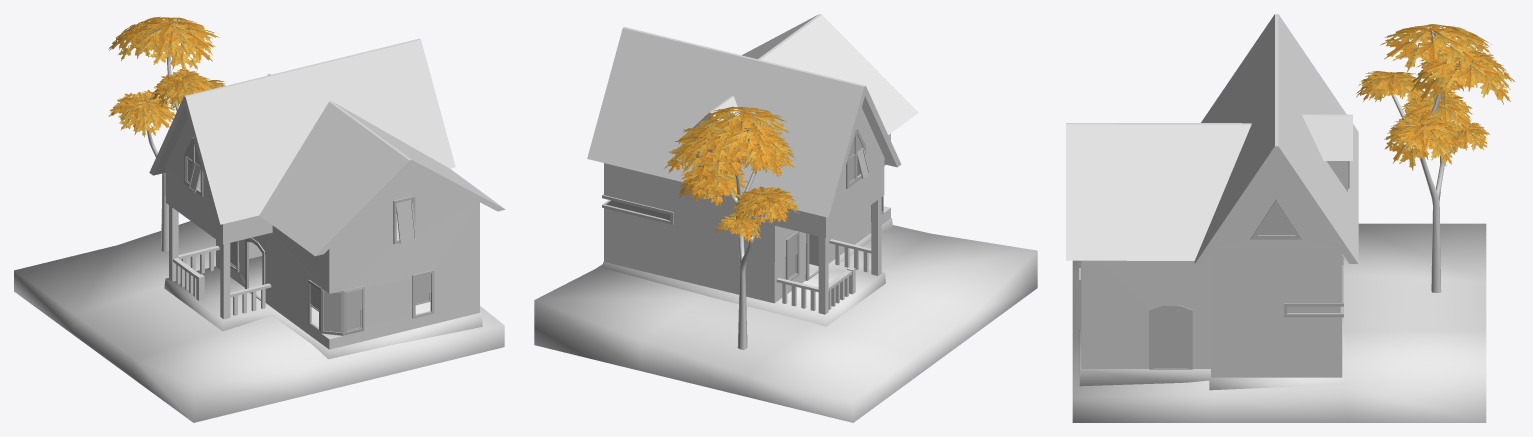
File: Simple House.fbx
3 renders of one model, left to right at view 1: azimuth 30°, elevation 25°; view 2: azimuth 150°, elevation 25°; view 3: azimuth 270°, elevation 25°, orthographic. The views are drawn at different scales.
Parts seen in each view (by area): view 1: Roof.2, Ground, Body, Roof 1, Floor, Leaves.001, Frame 2, Leaves.013, Leaves, Leaves.004, Frame 13, Tree (+4 smaller); view 2: Ground, Roof.2, Body, Floor, Roof 1, Leaves.001, Leaves, Leaves.003, Tree, Frame 9, Leaves.014, Leaves.002 (+6 smaller); view 3: Roof.2, Ground, Body, Roof 1, Floor, Leaves.001, Door 2, Leaves.003, Tree, Leaves.015, Frame 10, Leaves.004 (+12 smaller).
Part boxes in pixels (box(x1,y1,x2,y2)): Roof.2: box(184, 38, 504, 255); Ground: box(14, 221, 504, 422); Body: box(165, 169, 479, 349); Roof 1: box(149, 96, 505, 255); Floor: box(164, 256, 482, 359); Leaves.001: box(121, 17, 219, 57); Frame 2: box(308, 280, 364, 335); Leaves.013: box(110, 90, 175, 137); Leaves: box(108, 16, 182, 60); Leaves.004: box(144, 23, 215, 70); Frame 13: box(412, 270, 434, 318); Tree: box(146, 31, 179, 251); Ground: box(534, 225, 1037, 422); Roof.2: box(587, 14, 918, 217); Body: box(604, 133, 890, 314); Floor: box(602, 218, 892, 326); Roof 1: box(828, 86, 901, 217); Leaves.001: box(692, 106, 790, 147); Leaves: box(704, 114, 786, 168); Leaves.003: box(664, 123, 752, 181); Tree: box(727, 116, 763, 349); Frame 9: box(602, 194, 673, 224); Leaves.014: box(733, 186, 798, 226); Leaves.002: box(674, 133, 749, 162); Roof.2: box(1066, 14, 1358, 263); Ground: box(1072, 223, 1486, 422); Body: box(1081, 251, 1342, 377); Roof 1: box(1195, 146, 1357, 264); Floor: box(1079, 256, 1343, 390); Leaves.001: box(1380, 24, 1482, 71); Door 2: box(1153, 309, 1188, 368); Leaves.003: box(1419, 46, 1514, 104); Tree: box(1392, 31, 1453, 292); Leaves.015: box(1384, 110, 1455, 170); Frame 10: box(1250, 199, 1302, 239); Leaves.004: box(1410, 49, 1499, 105).
Size of the model in its own units: 873 by 672 by 944.
